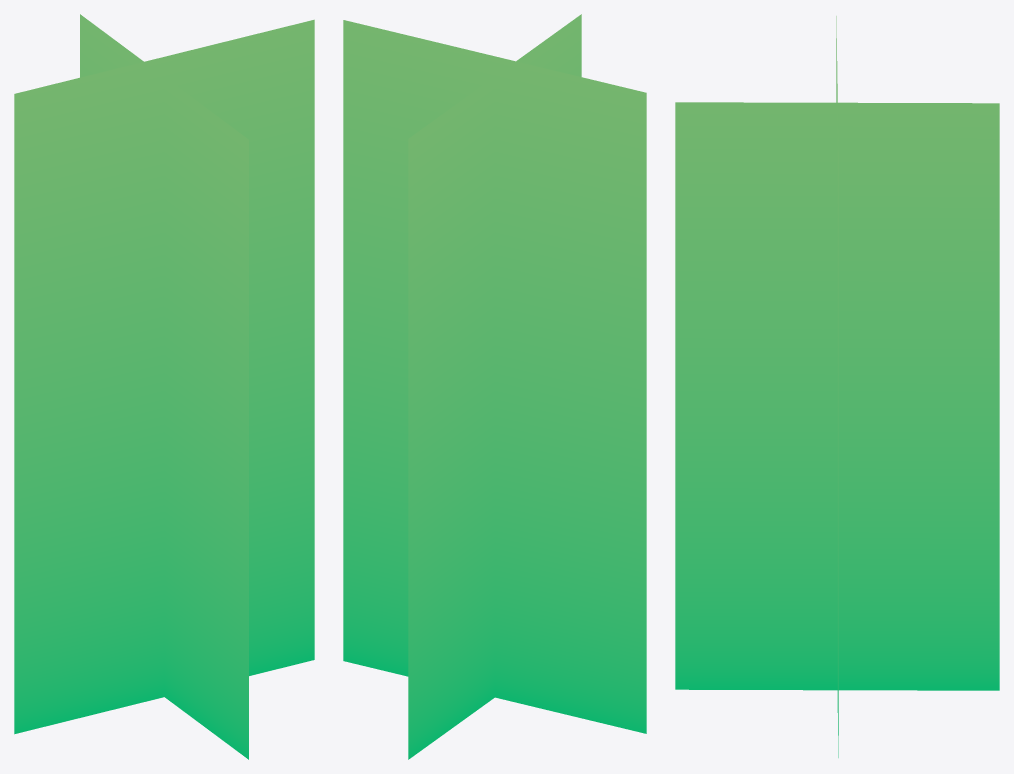
File: Grass_1.0m_A_01.fbx
3 views of the same model, side by side, from view 1: azimuth 30°, elevation 25°; view 2: azimuth 150°, elevation 25°; view 3: azimuth 270°, elevation 25° (orthographic). The views are drawn at different scales.
Parts seen in each view (by area): view 1: Grass_1.0m_A_01; view 2: Grass_1.0m_A_01; view 3: Grass_1.0m_A_01.
Boxes of the visible parts, bbox=[...] form: Grass_1.0m_A_01: bbox=[14, 14, 314, 759]; Grass_1.0m_A_01: bbox=[343, 14, 646, 759]; Grass_1.0m_A_01: bbox=[675, 16, 999, 757].
Size of the model in its own units: 0.4922 by 0.9982 by 0.4834.
